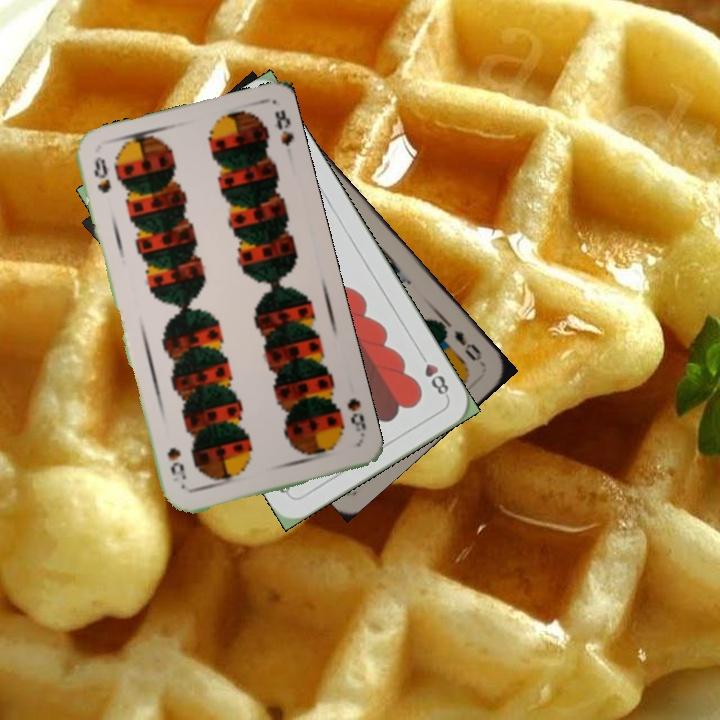EO: (450, 326, 485, 364)
H8: (414, 348, 452, 400)
S8: (343, 394, 369, 447), (90, 152, 114, 196)
